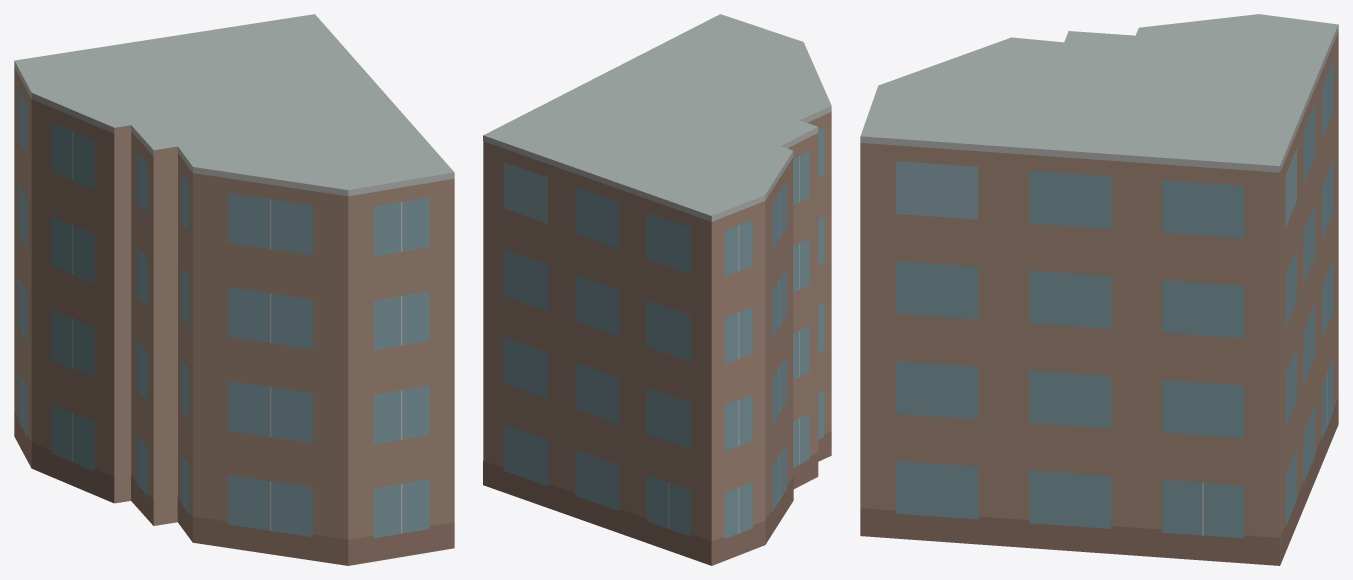
Rendered from survey-upis-32676573.glb.
3 views of the same model, side by side, from view 1: azimuth 30°, elevation 25°; view 2: azimuth 150°, elevation 25°; view 3: azimuth 270°, elevation 25° (orthographic). The views are drawn at different scales.
Visible parts, largest first — view 1: survey-upis-32676573.tmp; view 2: survey-upis-32676573.tmp; view 3: survey-upis-32676573.tmp.
Boxes of the visible parts, x1,y1,x2,y2 form: survey-upis-32676573.tmp: (14,14,454,565); survey-upis-32676573.tmp: (483,14,831,565); survey-upis-32676573.tmp: (860,14,1338,565).
Bounding box in the file's own units: 12.09 × 14.8 × 16.06.
